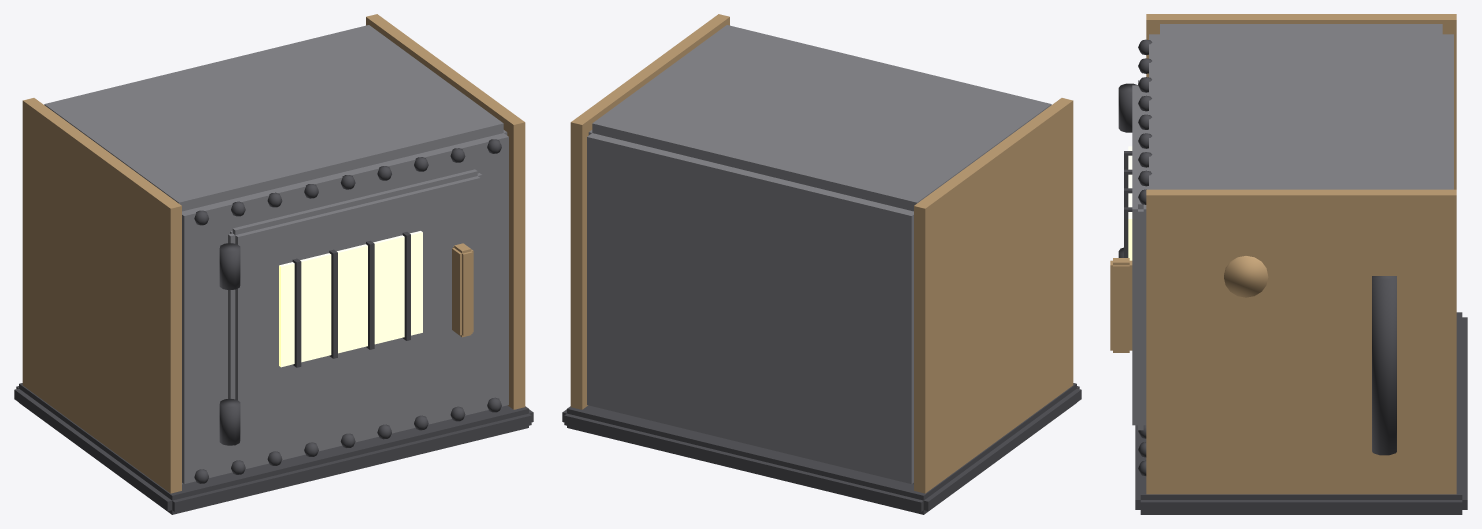
Rendered from wave_box.glb.
The picture shows the model from 3 angles, left to right: view 1: azimuth 30°, elevation 25°; view 2: azimuth 150°, elevation 25°; view 3: azimuth 270°, elevation 25°; orthographic projection. The views are drawn at different scales.
Visible parts, largest first — view 1: Shell, WeldSeam0, DoorPanel, Skid, DoorWindow, WeldSeam1, DoorHandle, Hinge1, Hinge0, DoorGrille0, DoorGrille2, DoorGrille1 (+1 smaller); view 2: Shell, WeldSeam0, Skid, WeldSeam1; view 3: WeldSeam1, Shell, Skid, DoorPanel, Feed, WeldSeam0, DoorHandle, Knob, Hinge1, DoorWindow.
Boxes of the visible parts, bbox=[...] form: Shell: bbox=[44, 25, 508, 484]; WeldSeam0: bbox=[22, 98, 181, 493]; DoorPanel: bbox=[228, 169, 482, 445]; Skid: bbox=[14, 383, 533, 514]; DoorWindow: bbox=[279, 231, 422, 367]; WeldSeam1: bbox=[366, 14, 525, 409]; DoorHandle: bbox=[452, 243, 473, 337]; Hinge1: bbox=[219, 243, 240, 290]; Hinge0: bbox=[219, 398, 240, 445]; DoorGrille0: bbox=[292, 258, 301, 367]; DoorGrille2: bbox=[366, 240, 374, 349]; DoorGrille1: bbox=[329, 249, 337, 358]; Shell: bbox=[587, 25, 1051, 484]; WeldSeam0: bbox=[914, 98, 1073, 493]; Skid: bbox=[562, 383, 1081, 514]; WeldSeam1: bbox=[570, 14, 729, 409]; WeldSeam1: bbox=[1146, 189, 1456, 494]; Shell: bbox=[1149, 24, 1453, 189]; Skid: bbox=[1135, 312, 1467, 514]; DoorPanel: bbox=[1132, 80, 1148, 430]; Feed: bbox=[1372, 276, 1396, 455]; WeldSeam0: bbox=[1146, 14, 1456, 189]; DoorHandle: bbox=[1110, 258, 1132, 352]; Knob: bbox=[1224, 256, 1268, 297]; Hinge1: bbox=[1118, 83, 1137, 132]; DoorWindow: bbox=[1128, 146, 1132, 260].
Bounding box in the file's own units: 1.61 × 1.27 × 1.29.
